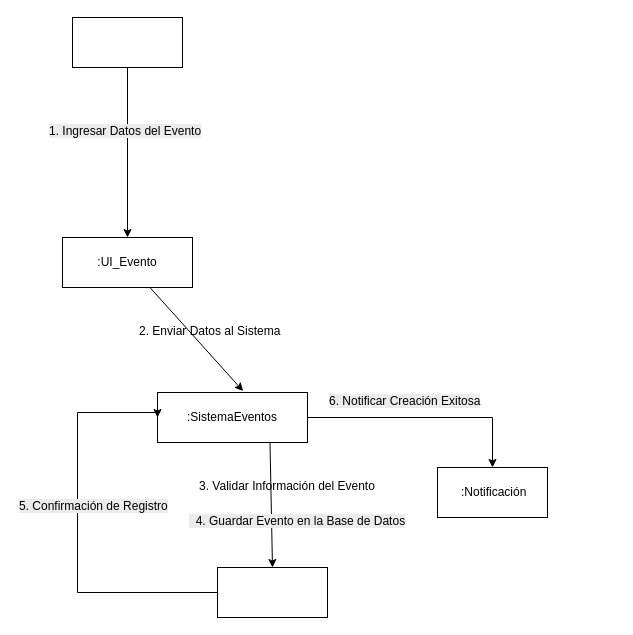
Some shapes in this 633 by 635 pixel diagram are drawn without their labels. Here are the shapes that lost their labels. From the top down, the box of each, then its label:
(72, 16, 182, 68): Usuario
(216, 566, 328, 618): :BD_Eventos
